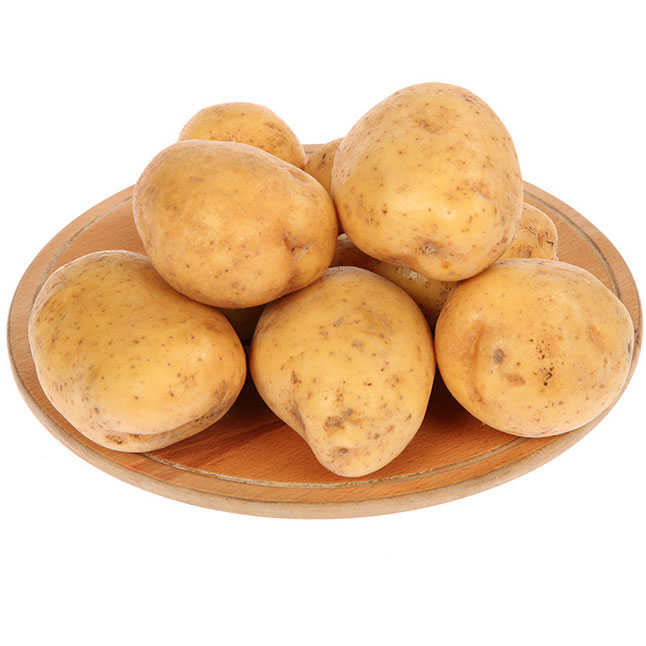Potato: (25, 248, 249, 465), (442, 256, 641, 441), (126, 143, 329, 314), (333, 79, 506, 277)
